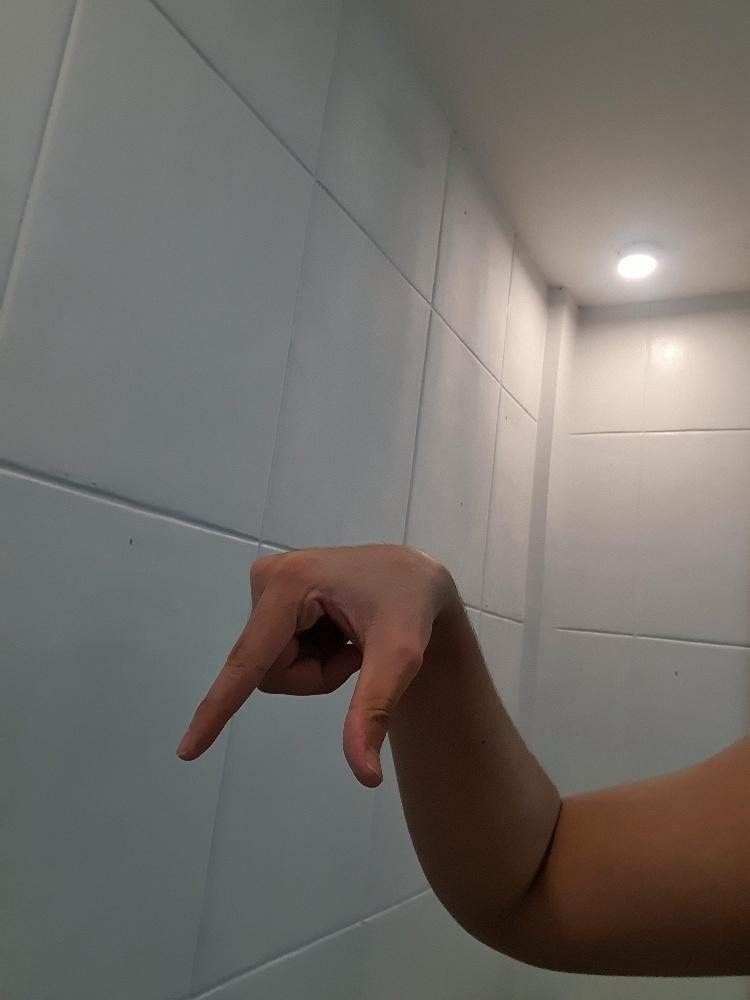q: (171, 539, 466, 788)
